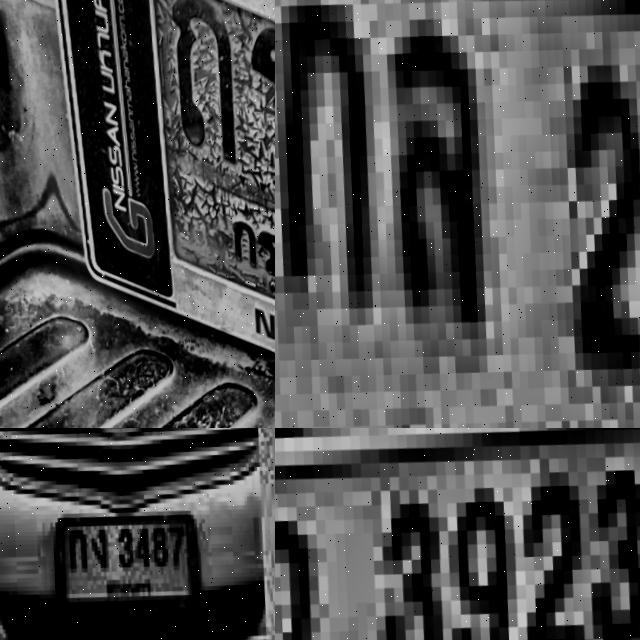license-plate: (275, 0, 640, 428), (20, 0, 275, 428), (275, 428, 640, 640), (45, 490, 218, 633)
